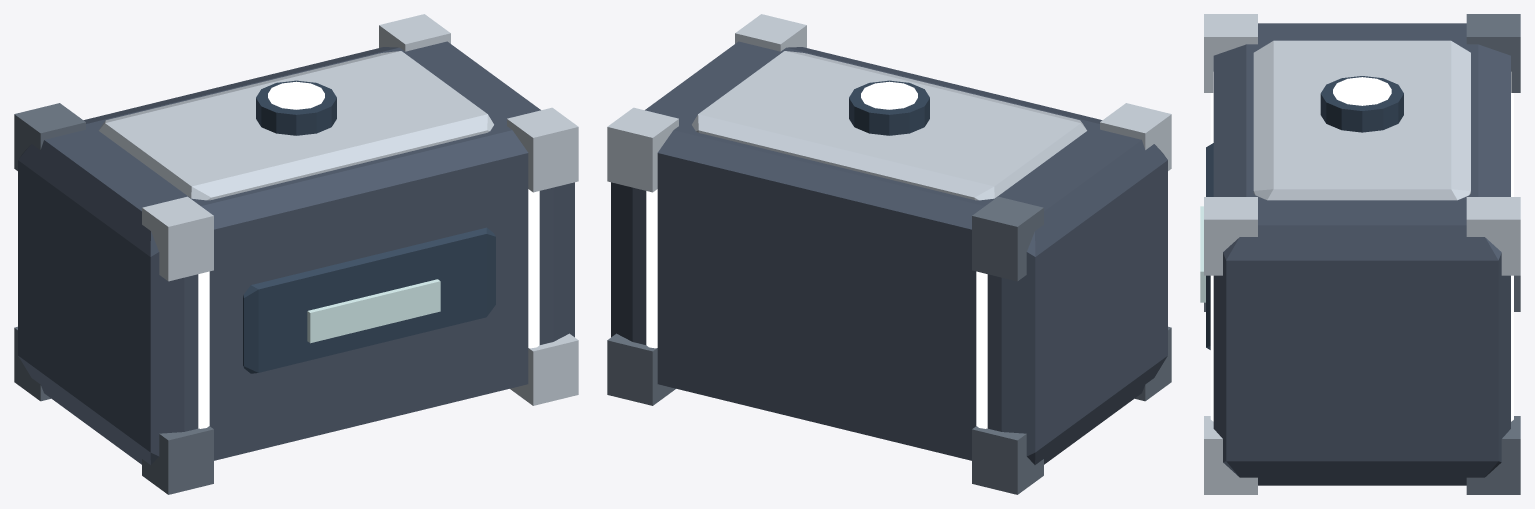
File: box_ammo.glb
3 renders of one model, left to right at view 1: azimuth 30°, elevation 25°; view 2: azimuth 150°, elevation 25°; view 3: azimuth 270°, elevation 25°, orthographic. The views are drawn at different scales.
Visible parts, largest first — view 1: sci_fi_chassis, reinforced_lid, front_interface_armor, outer_corner_joint_011, front_hologram_window, outer_corner_joint_111, outer_corner_joint_010, outer_corner_joint_110, top_lock, outer_corner_joint_001, outer_corner_joint_101, vert_front_rear_11 (+3 smaller); view 2: sci_fi_chassis, reinforced_lid, outer_corner_joint_001, outer_corner_joint_101, outer_corner_joint_000, outer_corner_joint_100, top_lock, outer_corner_joint_011, outer_corner_joint_111, vert_front_rear_1-1, vert_front_rear_-1-1, top_lock_energy (+1 smaller); view 3: sci_fi_chassis, reinforced_lid, outer_corner_joint_101, outer_corner_joint_111, top_lock, outer_corner_joint_001, outer_corner_joint_011, outer_corner_joint_100, outer_corner_joint_110, top_lock_energy, front_interface_armor, vert_front_rear_11 (+2 smaller).
Part boxes in pixels (box(x1,y1,x2,y2)): sci_fi_chassis: box(18, 41, 574, 464); reinforced_lid: box(99, 51, 493, 200); front_interface_armor: box(243, 227, 495, 373); outer_corner_joint_011: box(142, 196, 213, 281); front_hologram_window: box(307, 279, 440, 343); outer_corner_joint_111: box(507, 107, 578, 192); outer_corner_joint_010: box(142, 426, 213, 494); outer_corner_joint_110: box(510, 333, 578, 405); top_lock: box(256, 80, 336, 135); outer_corner_joint_001: box(14, 103, 85, 170); outer_corner_joint_101: box(379, 14, 450, 51); vert_front_rear_11: box(528, 189, 539, 348); sci_fi_chassis: box(611, 41, 1167, 464); reinforced_lid: box(692, 51, 1086, 200); outer_corner_joint_001: box(972, 196, 1043, 281); outer_corner_joint_101: box(607, 107, 678, 192); outer_corner_joint_000: box(972, 426, 1043, 494); outer_corner_joint_100: box(607, 333, 675, 405); top_lock: box(849, 80, 929, 135); outer_corner_joint_011: box(1100, 103, 1171, 170); outer_corner_joint_111: box(735, 14, 806, 51); vert_front_rear_1-1: box(646, 189, 657, 348); vert_front_rear_-1-1: box(976, 271, 987, 428); top_lock_energy: box(861, 81, 917, 109); sci_fi_chassis: box(1213, 23, 1510, 485); reinforced_lid: box(1253, 40, 1470, 200); outer_corner_joint_101: box(1466, 197, 1520, 275); outer_corner_joint_111: box(1204, 197, 1257, 275); top_lock: box(1320, 76, 1403, 132); outer_corner_joint_001: box(1466, 14, 1520, 92); outer_corner_joint_011: box(1204, 14, 1257, 92); outer_corner_joint_100: box(1466, 416, 1520, 494); outer_corner_joint_110: box(1204, 416, 1257, 494); top_lock_energy: box(1333, 77, 1391, 105); front_interface_armor: box(1206, 143, 1213, 349); vert_front_rear_11: box(1210, 275, 1213, 421).
Size of the model in its own units: 1.96 by 1.3 by 1.24.
